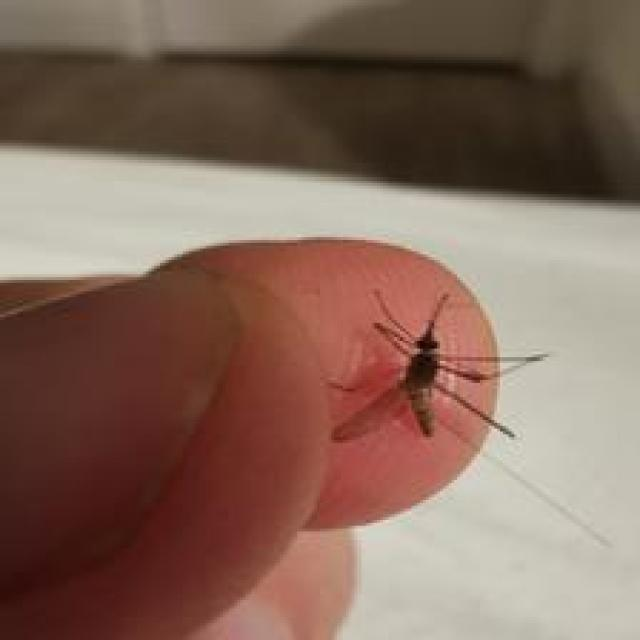Culex: (328, 288, 548, 446)
